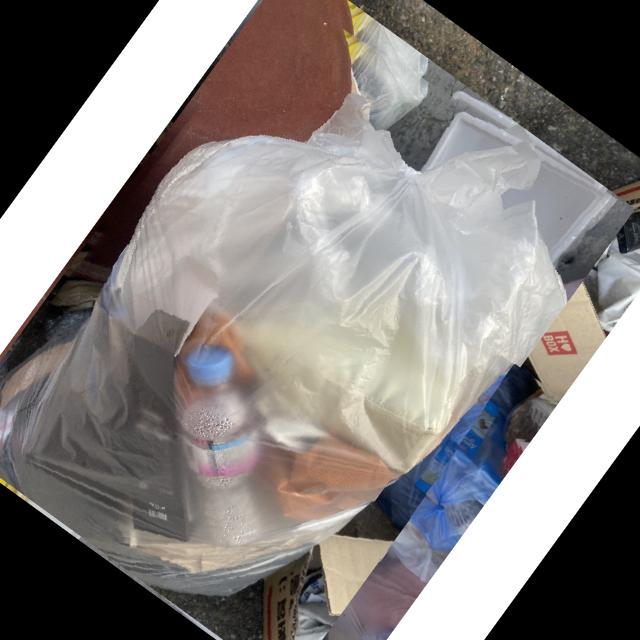other_trashbag: (0, 86, 563, 591), (407, 351, 529, 549)
